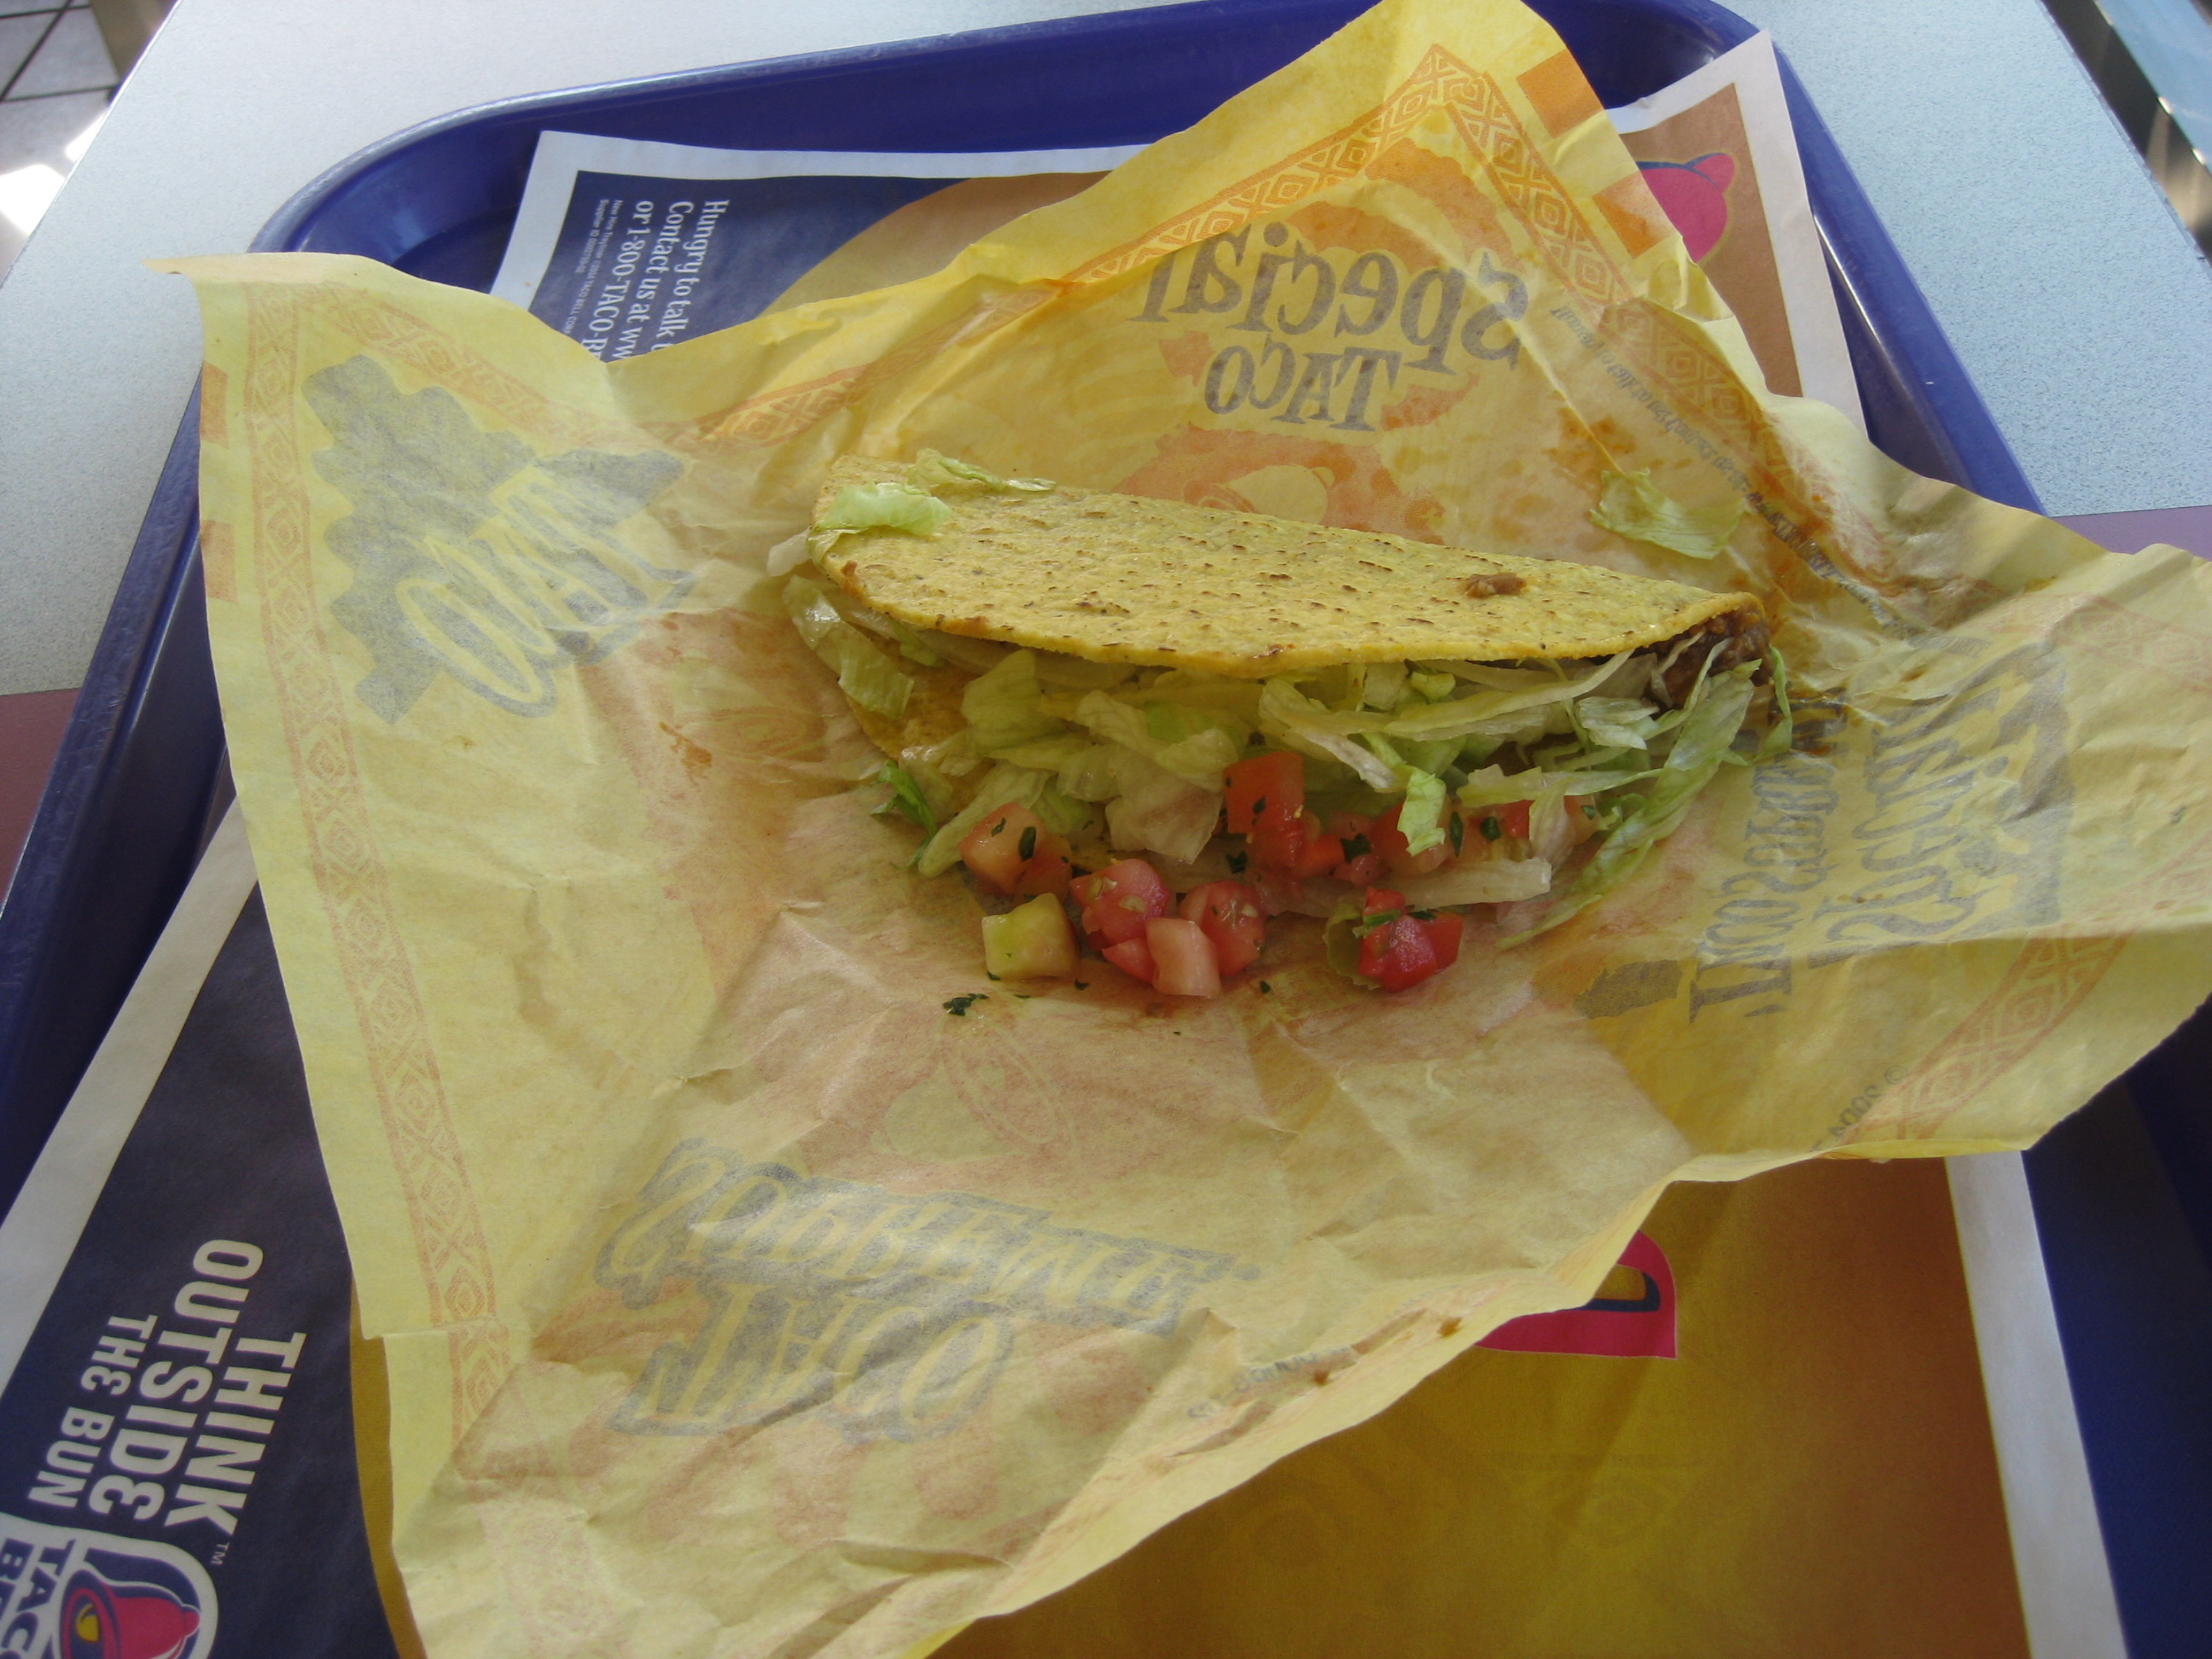taco: (787, 445, 1800, 1017)
